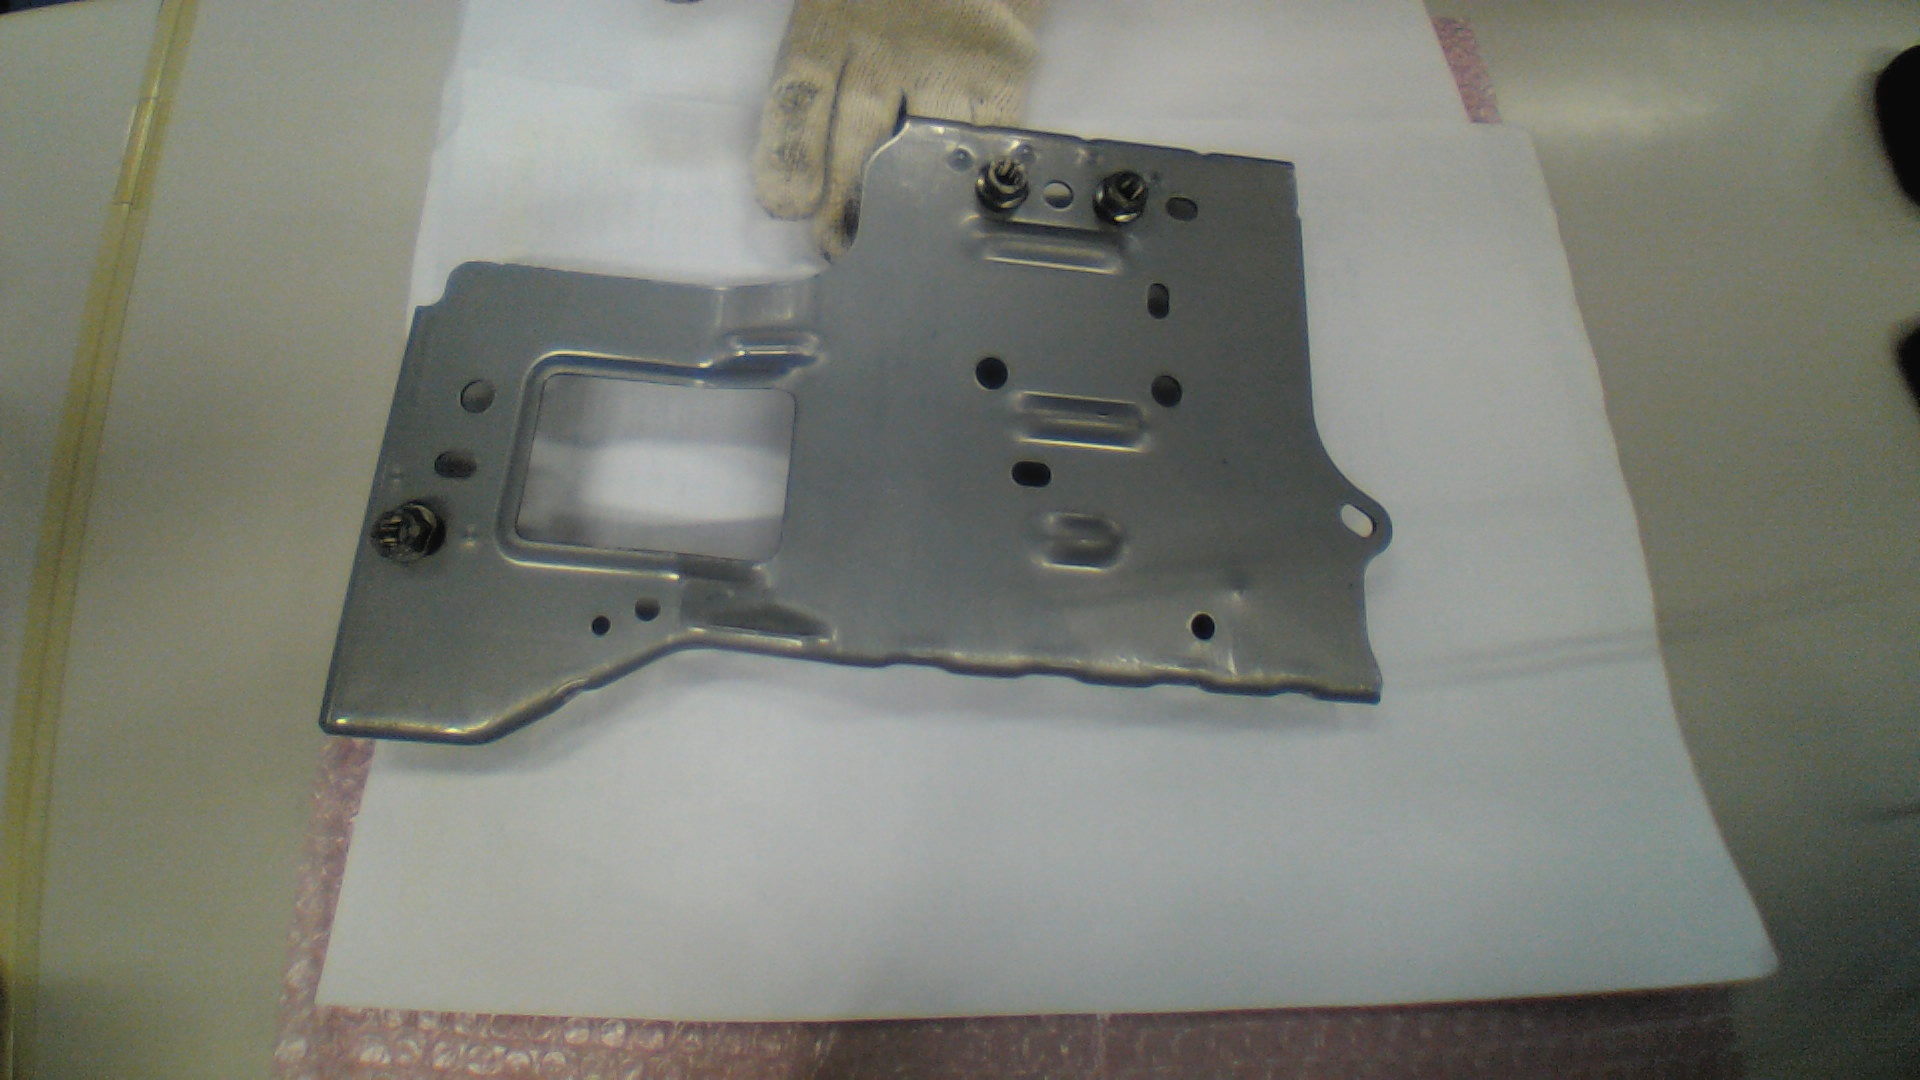dog: (371, 500, 448, 566), (975, 156, 1033, 214), (1095, 167, 1149, 227)
